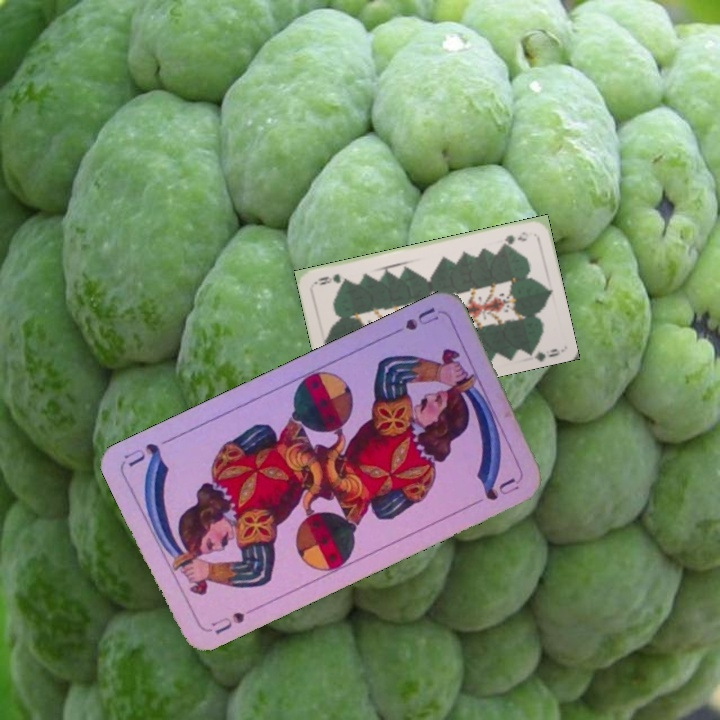G9: (498, 228, 531, 247)
SU: (385, 303, 441, 337), (203, 607, 248, 637)
